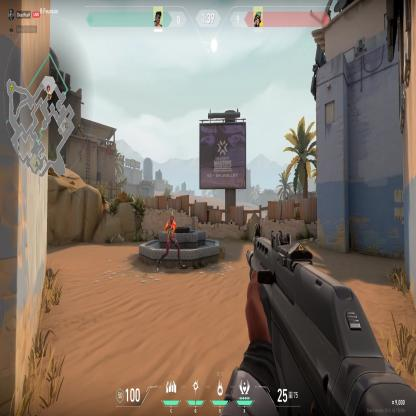enemy: (156, 209, 186, 272)
